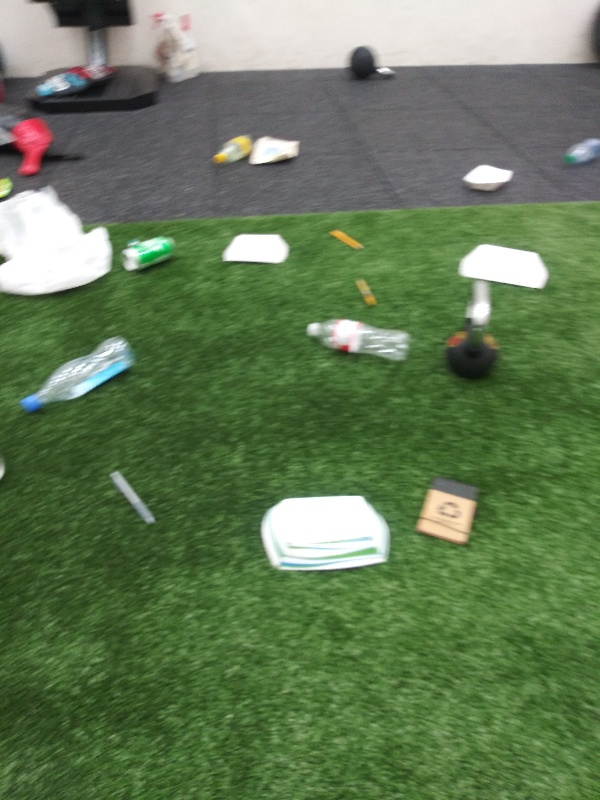bag: (246, 134, 305, 171), (1, 171, 15, 200)
bottle: (17, 331, 141, 420), (299, 313, 413, 368), (209, 128, 255, 171), (560, 129, 600, 170)
can: (119, 229, 181, 273)
plate: (253, 491, 399, 573), (448, 240, 551, 295), (215, 230, 291, 270), (458, 159, 520, 196)
